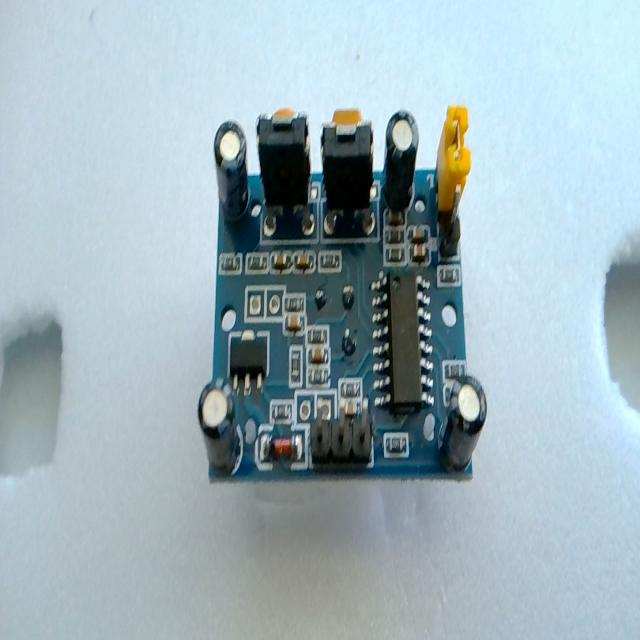Electrolytic capacitor: (440, 375, 488, 472), (382, 108, 419, 215), (198, 377, 240, 471), (213, 117, 249, 222)
IC: (371, 269, 433, 417)
pinheader: (313, 385, 372, 475)
